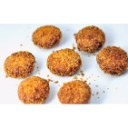cutlet: (17, 78, 53, 104), (99, 47, 128, 75), (48, 50, 80, 75), (58, 82, 92, 103), (76, 27, 104, 52), (5, 52, 34, 76), (34, 26, 62, 46)
